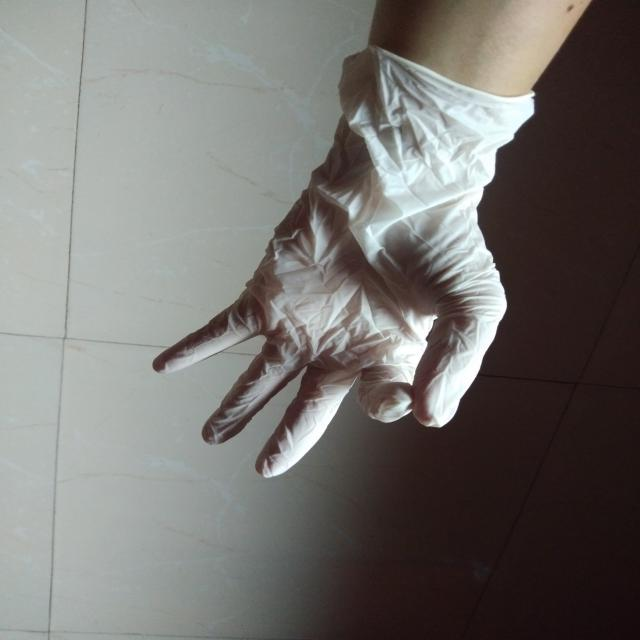gloved_hand: (147, 40, 550, 482)
